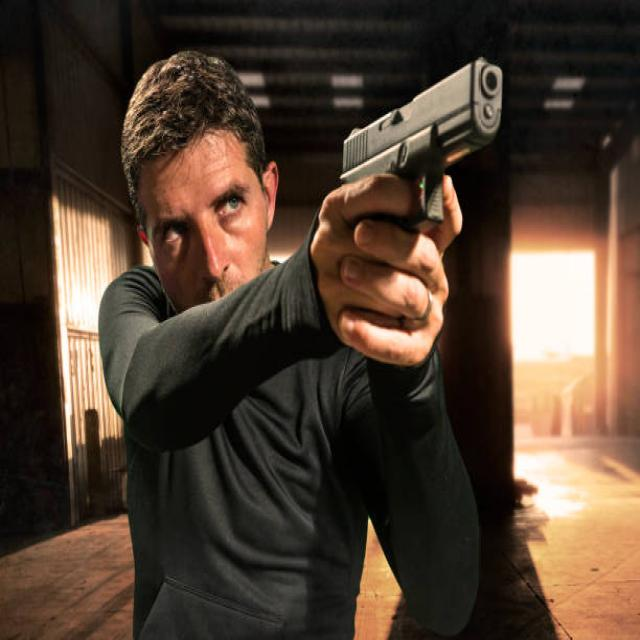HandGun: (340, 57, 503, 232)
